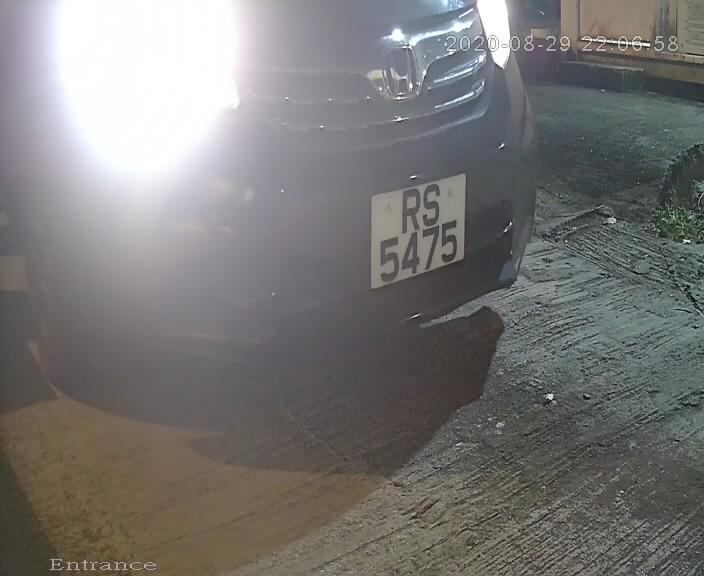License Plate: (362, 163, 472, 299)
